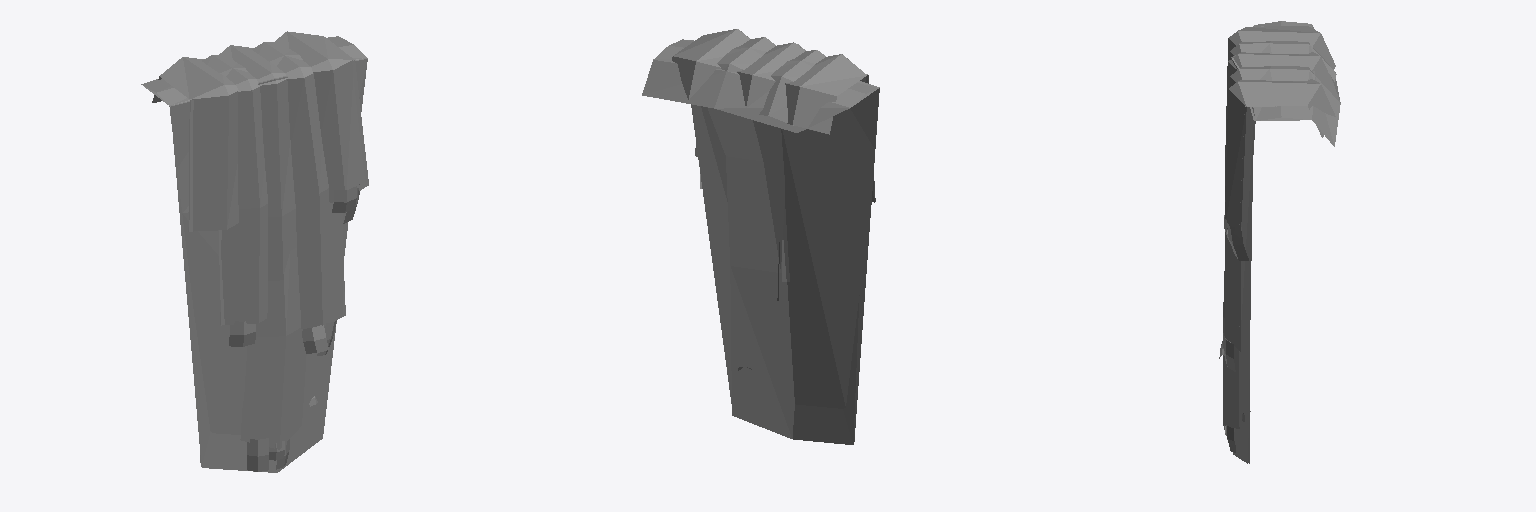
File: Ivy_Green.obj
The picture shows the model from 3 angles: view 1: azimuth 30°, elevation 25°; view 2: azimuth 150°, elevation 25°; view 3: azimuth 270°, elevation 25°; orthographic projection.
Parts seen in each view (by area): view 1: Ivy_Green_LOD0, Ivy_Green_LOD1; view 2: Ivy_Green_LOD0, Ivy_Green_LOD1; view 3: Ivy_Green_LOD0, Ivy_Green_LOD1.
Part boxes in pixels (left/top/right/bottom): Ivy_Green_LOD0: left=141, top=31, right=366, bottom=471; Ivy_Green_LOD1: left=144, top=43, right=368, bottom=472; Ivy_Green_LOD0: left=642, top=29, right=878, bottom=444; Ivy_Green_LOD1: left=643, top=39, right=879, bottom=444; Ivy_Green_LOD0: left=1219, top=21, right=1340, bottom=463; Ivy_Green_LOD1: left=1223, top=25, right=1340, bottom=463.
Bounding box in the file's own units: 118 × 228 × 62.82.